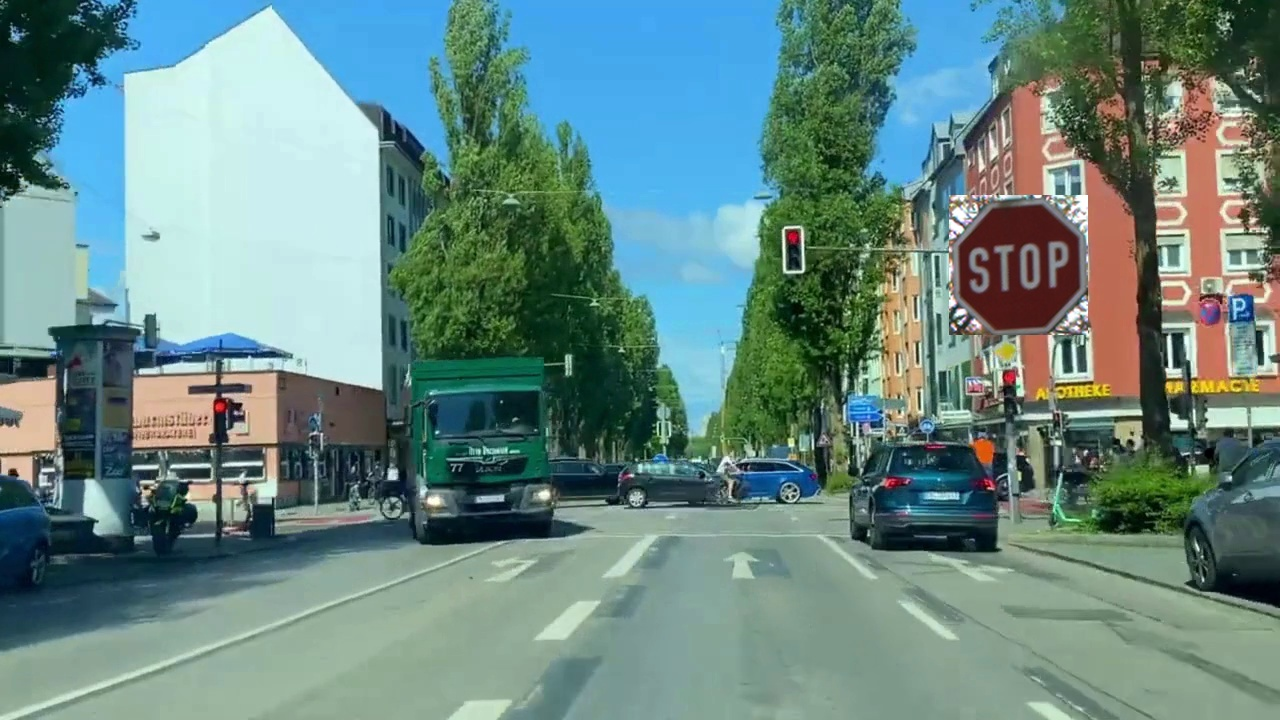Stop: (949, 195, 1088, 335)
